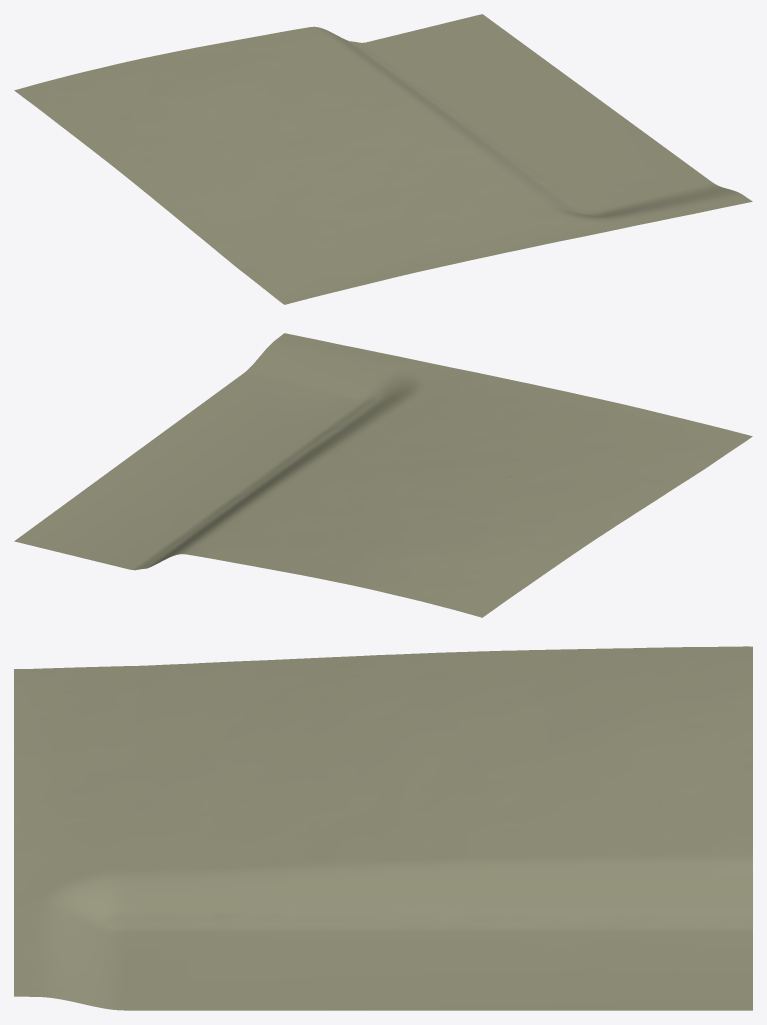
The model's file is SM_VB_CityTerrain_0_5.fbx.
3 views of the same model, one above another, from view 1: azimuth 30°, elevation 25°; view 2: azimuth 150°, elevation 25°; view 3: azimuth 270°, elevation 25° (orthographic). The views are drawn at different scales.
Parts seen in each view (by area): view 1: SM_VB_CityTerrain_0_5; view 2: SM_VB_CityTerrain_0_5; view 3: SM_VB_CityTerrain_0_5.
Part boxes in pixels (x1,y1,x2,y2): SM_VB_CityTerrain_0_5: [14, 14, 752, 304]; SM_VB_CityTerrain_0_5: [14, 333, 752, 617]; SM_VB_CityTerrain_0_5: [14, 646, 752, 1010].
Bounding box in the file's own units: 600 × 48.14 × 600.
